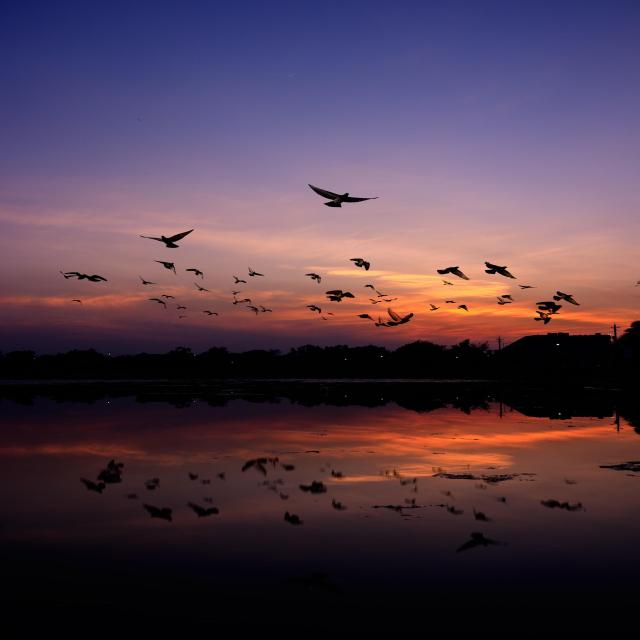bird: (306, 183, 382, 209), (136, 227, 198, 250), (435, 264, 475, 283), (482, 260, 518, 280), (549, 289, 583, 307), (385, 306, 415, 326), (151, 259, 178, 276), (535, 300, 564, 314), (324, 290, 356, 302), (349, 258, 372, 272), (373, 315, 394, 329), (78, 274, 109, 283), (192, 282, 215, 294), (246, 265, 267, 278), (184, 267, 205, 280), (534, 310, 552, 325), (147, 298, 168, 310), (137, 275, 157, 287), (303, 273, 324, 284), (516, 284, 542, 292), (425, 302, 442, 313), (59, 270, 77, 280), (356, 313, 374, 322), (305, 305, 323, 314), (246, 305, 260, 316), (257, 305, 274, 314), (200, 310, 221, 317), (546, 308, 564, 316), (495, 297, 513, 305), (440, 279, 456, 287), (373, 290, 389, 298), (232, 296, 246, 305), (232, 276, 247, 284), (501, 293, 515, 301), (457, 304, 470, 312), (240, 297, 253, 305), (382, 297, 399, 303), (160, 294, 176, 300), (69, 300, 85, 306), (362, 284, 376, 290), (174, 304, 187, 310), (230, 289, 242, 295), (369, 299, 383, 304), (444, 300, 459, 304), (320, 316, 330, 321), (326, 312, 337, 316), (178, 315, 190, 318)
